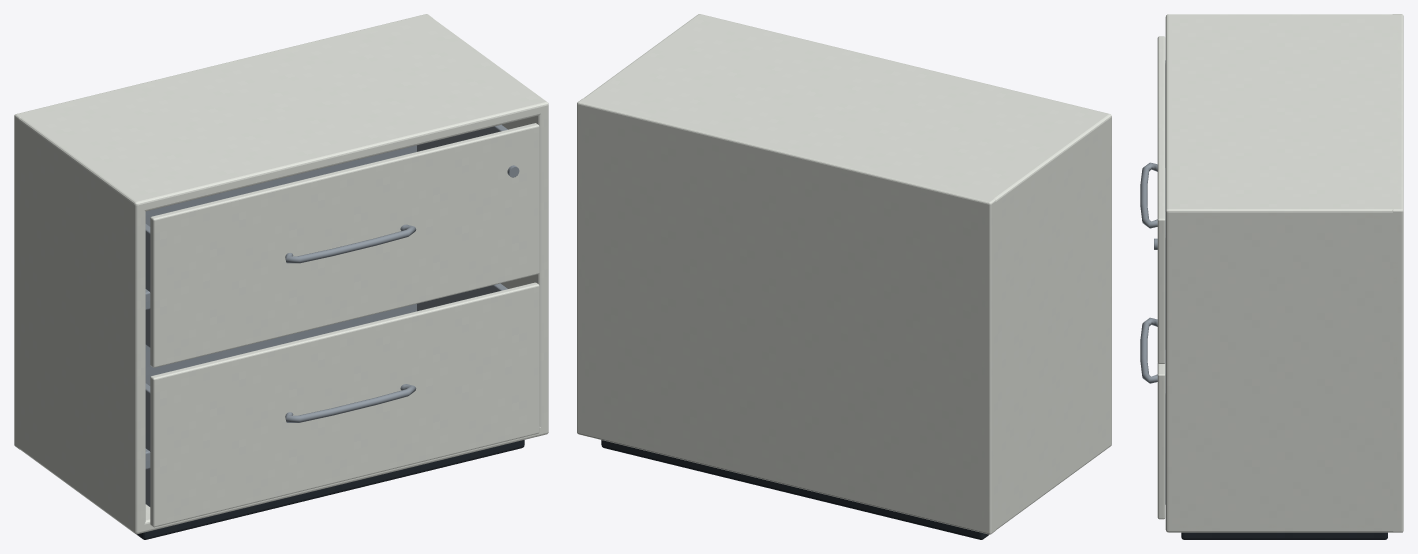
File: lateral-filing-cabinet.glb
The picture shows the model from 3 angles, left to right: view 1: azimuth 30°, elevation 25°; view 2: azimuth 150°, elevation 25°; view 3: azimuth 270°, elevation 25°; orthographic projection. The views are drawn at different scales.
Visible parts, largest first — view 1: Drawer face, Drawer face.001, Cabinet horizontal.001, Cabinet side, Cabinet side.001, File anti-tip plinth, File drawer box back, Cabinet back, File drawer box back.001, Cabinet horizontal, Furniture pull.001, Furniture pull (+2 smaller); view 2: Cabinet back, Cabinet horizontal.001, Cabinet side, Cabinet horizontal, File anti-tip plinth, Cabinet side.001; view 3: Cabinet side.001, Cabinet horizontal.001, Cabinet back, Drawer face.001, Cabinet horizontal, File anti-tip plinth, Drawer face, Furniture pull, Furniture pull.001.
Part boxes in pixels (x1,y1,x2,y2): Drawer face: (150,282,539,527); Drawer face.001: (150,123,539,367); Cabinet horizontal.001: (15,15,548,211); Cabinet side: (14,113,145,533); Cabinet side.001: (424,17,548,435); File anti-tip plinth: (136,440,524,539); File drawer box back: (145,304,416,385); Cabinet back: (14,14,432,449); File drawer box back.001: (145,145,416,226); Cabinet horizontal: (135,426,548,534); Furniture pull.001: (285,224,416,263); Furniture pull: (285,384,416,422); Cabinet back: (577,98,995,534); Cabinet horizontal.001: (579,14,1111,211); Cabinet side: (982,113,1111,531); Cabinet horizontal: (578,426,1111,532); File anti-tip plinth: (601,440,988,539); Cabinet side.001: (578,15,703,427); Cabinet side.001: (1165,206,1400,532); Cabinet horizontal.001: (1165,14,1400,218); Cabinet back: (1392,14,1403,532); Drawer face.001: (1157,36,1165,363); Cabinet horizontal: (1165,524,1393,532); File anti-tip plinth: (1181,532,1387,539); Drawer face: (1157,363,1165,519); Furniture pull: (1140,317,1157,383); Furniture pull.001: (1140,162,1157,228).
Bounding box in the file's own units: 0.9 × 0.7225 × 0.5091.
Materials: 3 (3 with a texture image).
